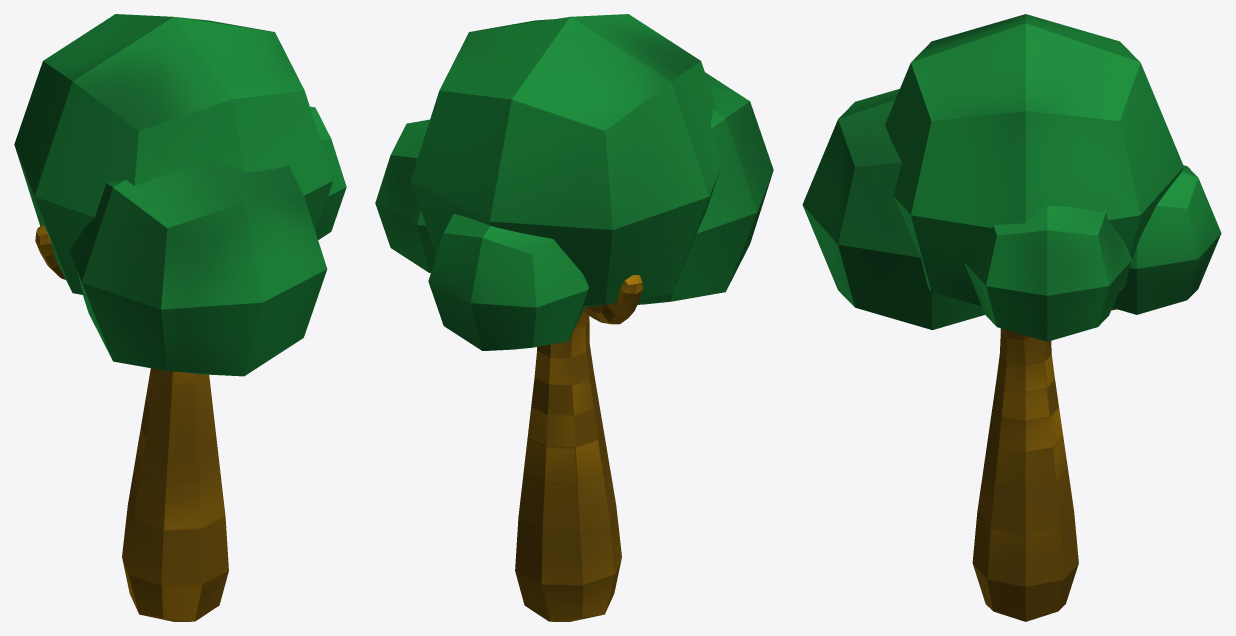
The picture shows the model from 3 angles, left to right: view 1: azimuth 30°, elevation 25°; view 2: azimuth 150°, elevation 25°; view 3: azimuth 270°, elevation 25°; orthographic projection.
Visible parts, largest first — view 1: Cube.004, Cube; view 2: Cube.004, Cube; view 3: Cube.004, Cube.
Boxes of the visible parts, <box> form: Cube.004: <box>14,14,346,376</box>; Cube: <box>35,224,228,621</box>; Cube.004: <box>375,14,773,350</box>; Cube: <box>515,275,642,621</box>; Cube.004: <box>802,14,1221,341</box>; Cube: <box>972,308,1116,621</box>.
Size of the model in its own units: 2.29 by 4.24 by 2.71.
Materials: 2 (2 with a texture image).
